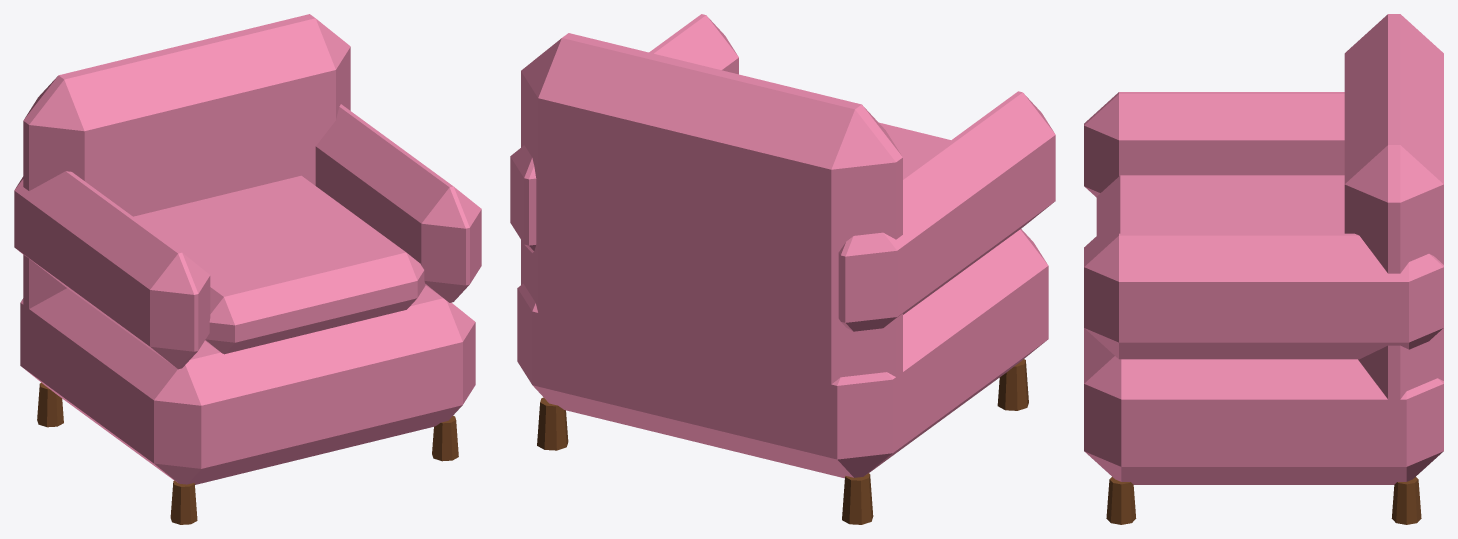
The model's file is PinkArmchair.fbx.
The picture shows the model from 3 angles, left to right: view 1: azimuth 30°, elevation 25°; view 2: azimuth 150°, elevation 25°; view 3: azimuth 270°, elevation 25°; orthographic projection. The views are drawn at different scales.
Parts seen in each view (by area): view 1: PinkArmchair; view 2: PinkArmchair; view 3: PinkArmchair.
Part boxes in pixels (x1=…): PinkArmchair: x1=14, y1=14, x2=481, y2=524; PinkArmchair: x1=510, y1=14, x2=1055, y2=524; PinkArmchair: x1=1084, y1=14, x2=1443, y2=524.
Bounding box in the file's own units: 3.3 × 3.3 × 2.9.
Materials: 1 (1 with a texture image).
